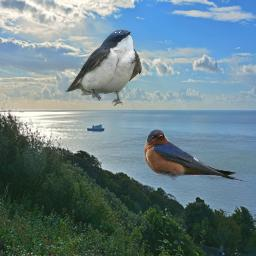Swallow: (65, 29, 142, 106), (143, 129, 247, 182)
